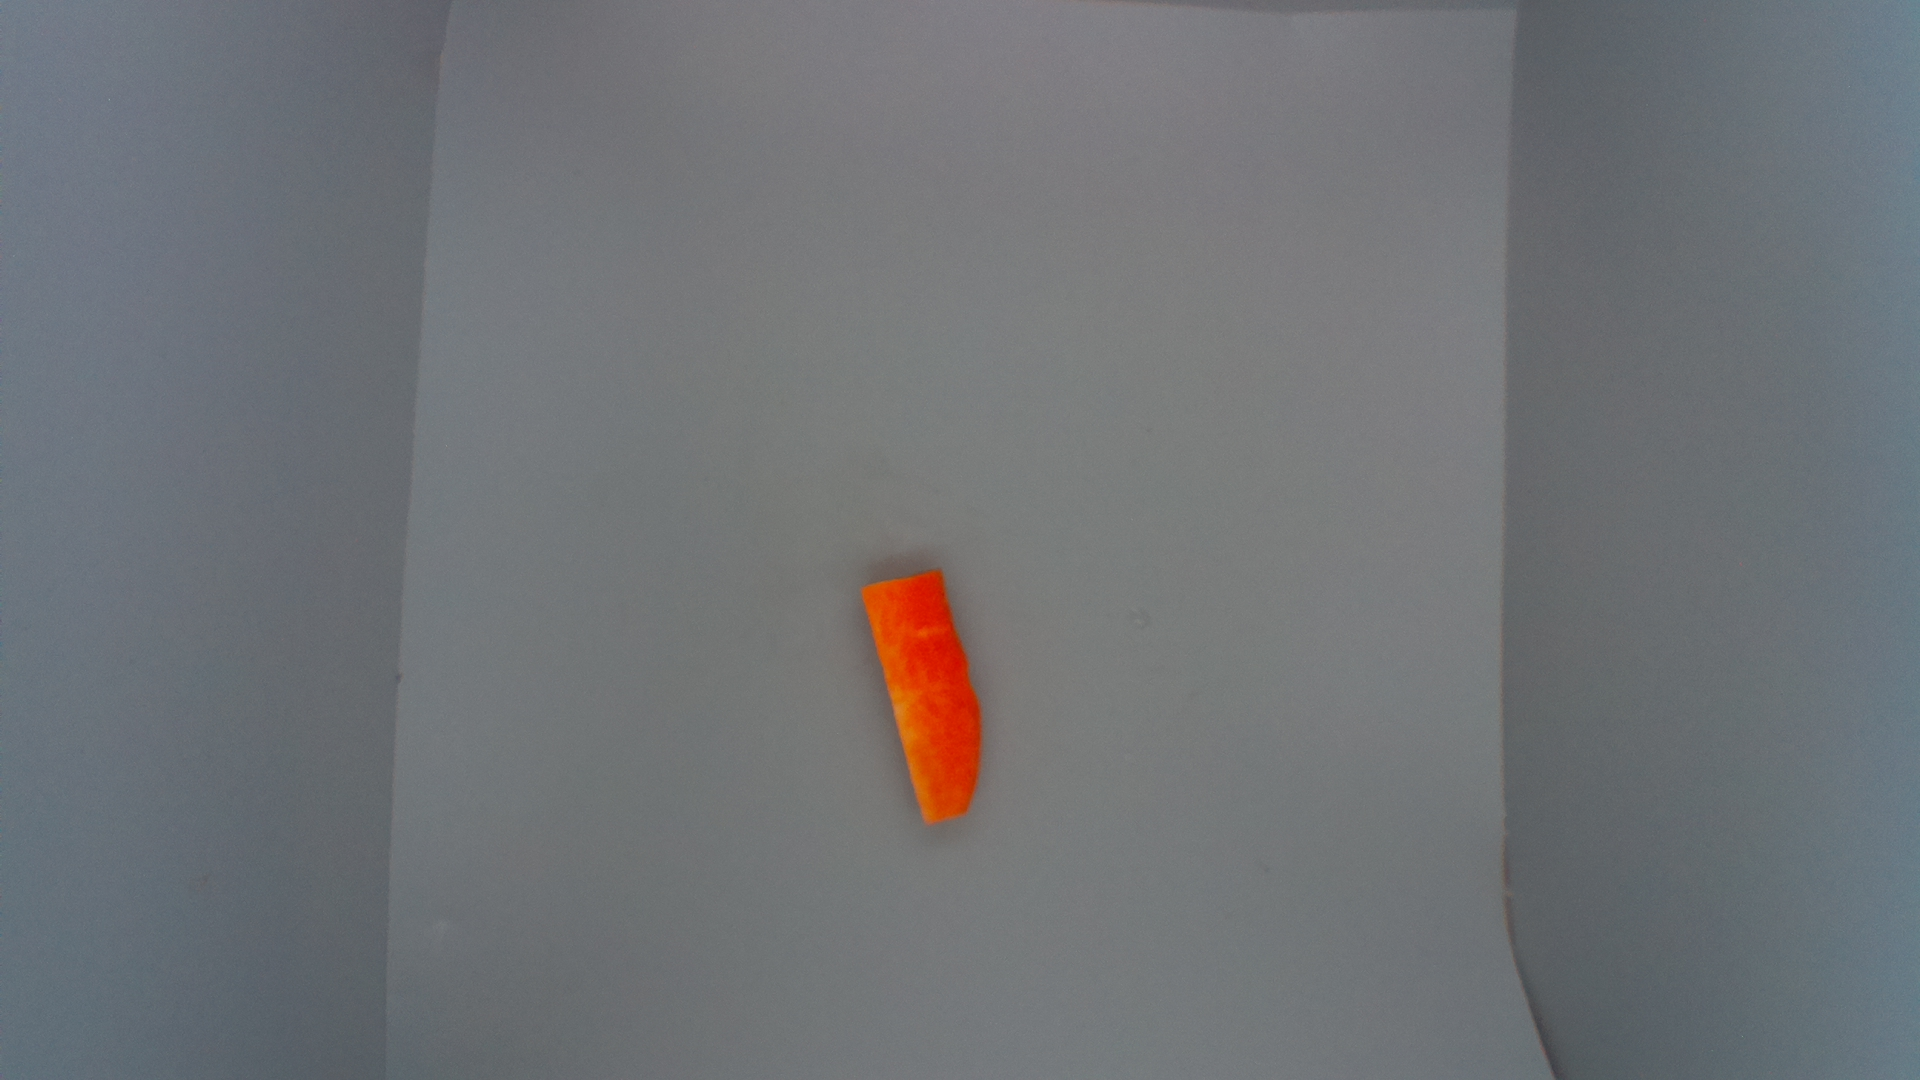carrot: (858, 568, 985, 831)
